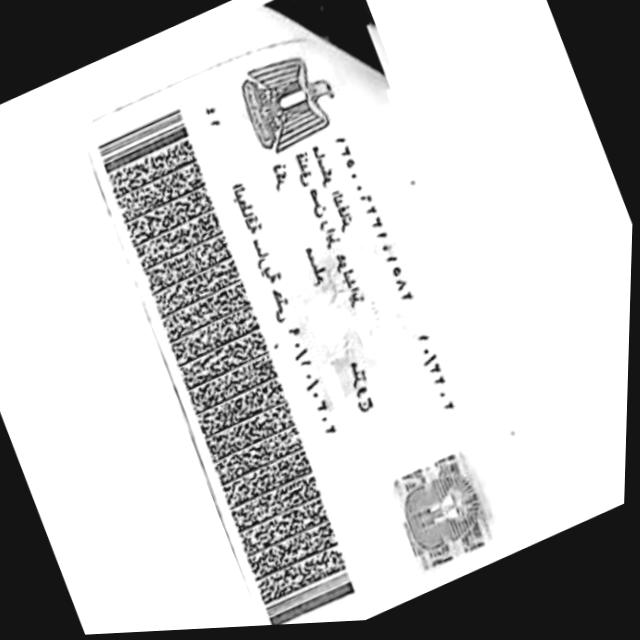id_card: (88, 6, 528, 625)
